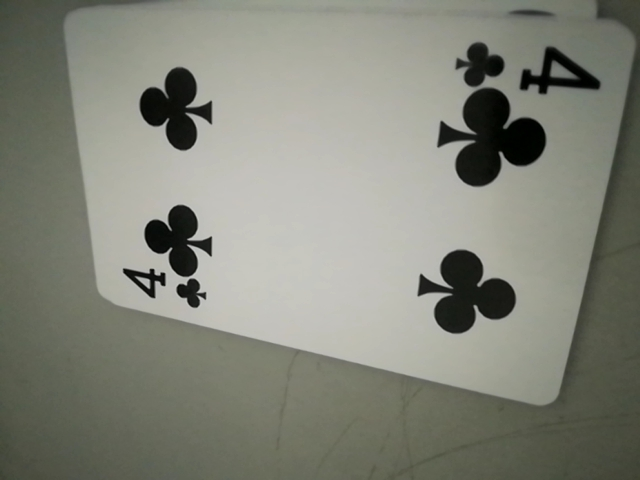mh 4: (452, 29, 601, 96), (114, 264, 211, 315)
